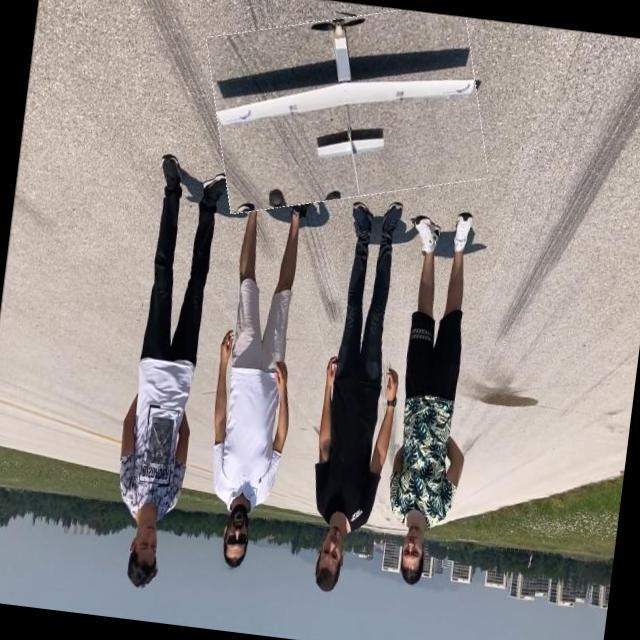iha: (198, 0, 480, 156)
